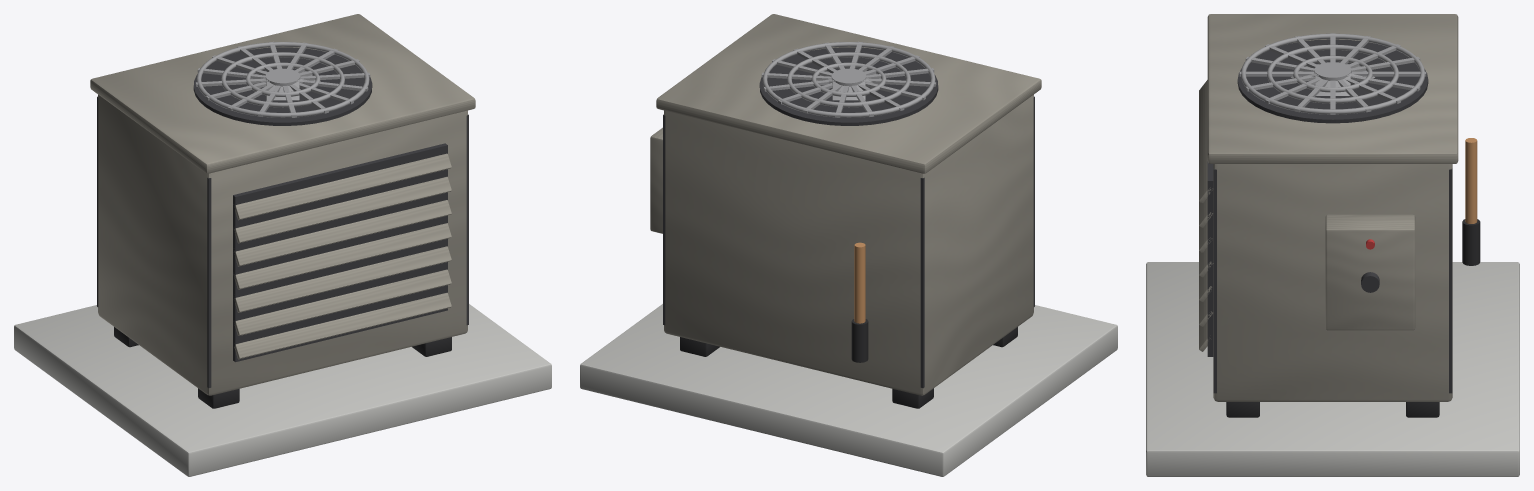
The model's file is utility-ac.glb.
3 renders of one model, left to right at view 1: azimuth 30°, elevation 25°; view 2: azimuth 150°, elevation 25°; view 3: azimuth 270°, elevation 25°, orthographic. The views are drawn at different scales.
Parts seen in each view (by area): view 1: AcCabinet, AcPad, AcLid, AcIntake, AcFanWell, AcLouver3, AcLouver0, AcLouver4, AcLouver5, AcLouver6, AcLouver2, AcLouver1 (+8 smaller); view 2: AcCabinet, AcPad, AcLid, AcFanWell, AcGrilleRing2, AcGrilleRing1, AcControlBox, AcSeam2, AcPipeStub, AcPipeLagging, AcGrilleRing0, AcSeam3 (+3 smaller); view 3: AcCabinet, AcPad, AcLid, AcControlBox, AcFanWell, AcGrilleRing2, AcGrilleRing1, AcIntake, AcPipeStub, AcLouver6, AcSeam1, AcSeam3 (+12 smaller).
Boxes of the visible parts, x1=… form: AcCabinet: x1=98, y1=94, x2=467, y2=395; AcPad: x1=14, y1=304, x2=551, y2=476; AcLid: x1=90, y1=14, x2=475, y2=173; AcIntake: x1=233, y1=143, x2=447, y2=362; AcFanWell: x1=193, y1=47, x2=372, y2=125; AcLouver3: x1=233, y1=223, x2=451, y2=289; AcLouver0: x1=234, y1=292, x2=451, y2=359; AcLouver4: x1=234, y1=200, x2=451, y2=266; AcLouver5: x1=234, y1=176, x2=451, y2=243; AcLouver6: x1=233, y1=153, x2=451, y2=220; AcLouver2: x1=234, y1=246, x2=451, y2=312; AcLouver1: x1=234, y1=269, x2=451, y2=335; AcCabinet: x1=664, y1=94, x2=1033, y2=395; AcPad: x1=580, y1=304, x2=1117, y2=476; AcLid: x1=656, y1=14, x2=1041, y2=173; AcFanWell: x1=759, y1=47, x2=938, y2=125; AcGrilleRing2: x1=762, y1=42, x2=935, y2=117; AcGrilleRing1: x1=787, y1=52, x2=910, y2=107; AcControlBox: x1=650, y1=127, x2=662, y2=233; AcSeam2: x1=920, y1=177, x2=924, y2=388; AcPipeStub: x1=854, y1=242, x2=865, y2=323; AcPipeLagging: x1=851, y1=319, x2=868, y2=362; AcGrilleRing0: x1=811, y1=62, x2=886, y2=96; AcSeam3: x1=663, y1=114, x2=665, y2=325; AcCabinet: x1=1213, y1=164, x2=1452, y2=401; AcPad: x1=1146, y1=262, x2=1519, y2=476; AcLid: x1=1207, y1=14, x2=1458, y2=163; AcControlBox: x1=1325, y1=214, x2=1415, y2=330; AcFanWell: x1=1237, y1=39, x2=1428, y2=123; AcGrilleRing2: x1=1241, y1=33, x2=1424, y2=114; AcGrilleRing1: x1=1267, y1=44, x2=1398, y2=103; AcIntake: x1=1207, y1=161, x2=1213, y2=356; AcPipeStub: x1=1465, y1=138, x2=1477, y2=223; AcLouver6: x1=1199, y1=80, x2=1212, y2=203; AcSeam1: x1=1213, y1=168, x2=1216, y2=393; AcSeam3: x1=1449, y1=168, x2=1452, y2=393.
Bounding box in the file's own units: 1.2 × 0.9245 × 1.
Materials: 7 (1 with a texture image).
